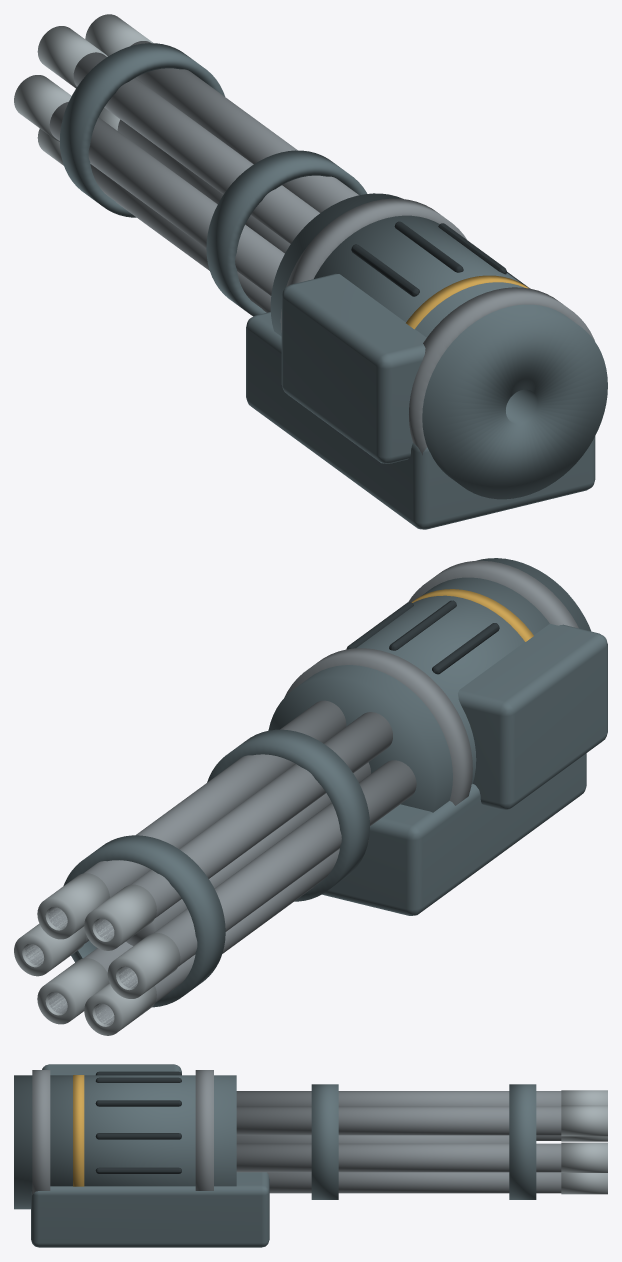
The picture shows the model from 3 angles, top to bottom: view 1: azimuth 30°, elevation 25°; view 2: azimuth 150°, elevation 25°; view 3: azimuth 270°, elevation 25°; orthographic projection. The views are drawn at different scales.
Parts seen in each view (by area): view 1: GunGimbal_Machined_graphite_fins, GatlingRotor_Nozzle_and_fasteners, CG26Mount_Machined_graphite_fins, GatlingRotor_Machined_graphite_fins, GunGimbal_Nozzle_and_fasteners, GatlingRotor_Satin_titanium_grey, GunGimbal_Laser_etched_identification, GunGimbal_Identification_band; view 2: GunGimbal_Machined_graphite_fins, GatlingRotor_Nozzle_and_fasteners, CG26Mount_Machined_graphite_fins, GatlingRotor_Satin_titanium_grey, GatlingRotor_Machined_graphite_fins, GunGimbal_Nozzle_and_fasteners, GunGimbal_Laser_etched_identification, GunGimbal_Identification_band; view 3: GatlingRotor_Nozzle_and_fasteners, GunGimbal_Machined_graphite_fins, CG26Mount_Machined_graphite_fins, GatlingRotor_Machined_graphite_fins, GatlingRotor_Satin_titanium_grey, GunGimbal_Nozzle_and_fasteners, GunGimbal_Laser_etched_identification, GunGimbal_Identification_band.
Boxes of the visible parts, left/top/right/bottom form: GunGimbal_Machined_graphite_fins: left=270, top=193, right=607, bottom=499; GatlingRotor_Nozzle_and_fasteners: left=49, top=41, right=358, bottom=312; CG26Mount_Machined_graphite_fins: left=246, top=312, right=595, bottom=529; GatlingRotor_Machined_graphite_fins: left=59, top=43, right=367, bottom=316; GunGimbal_Nozzle_and_fasteners: left=280, top=198, right=594, bottom=455; GatlingRotor_Satin_titanium_grey: left=14, top=14, right=153, bottom=165; GunGimbal_Laser_etched_identification: left=351, top=221, right=529, bottom=296; GunGimbal_Identification_band: left=406, top=275, right=529, bottom=329; GunGimbal_Machined_graphite_fins: left=268, top=558, right=607, bottom=812; GatlingRotor_Nozzle_and_fasteners: left=25, top=700, right=416, bottom=1024; CG26Mount_Machined_graphite_fins: left=322, top=753, right=586, bottom=915; GatlingRotor_Satin_titanium_grey: left=14, top=873, right=180, bottom=1035; GatlingRotor_Machined_graphite_fins: left=63, top=729, right=369, bottom=1007; GunGimbal_Nozzle_and_fasteners: left=284, top=560, right=578, bottom=805; GunGimbal_Laser_etched_identification: left=346, top=600, right=499, bottom=674; GunGimbal_Identification_band: left=411, top=589, right=533, bottom=641; GatlingRotor_Nozzle_and_fasteners: left=236, top=1091, right=561, bottom=1193; GunGimbal_Machined_graphite_fins: left=14, top=1064, right=236, bottom=1209; CG26Mount_Machined_graphite_fins: left=31, top=1172, right=269, bottom=1247; GatlingRotor_Machined_graphite_fins: left=311, top=1084, right=536, bottom=1199; GatlingRotor_Satin_titanium_grey: left=561, top=1090, right=607, bottom=1194; GunGimbal_Nozzle_and_fasteners: left=32, top=1070, right=213, bottom=1194; GunGimbal_Laser_etched_identification: left=95, top=1071, right=181, bottom=1173; GunGimbal_Identification_band: left=73, top=1075, right=84, bottom=1186.
Size of the model in its own units: 0.728 by 0.698 by 2.62.
